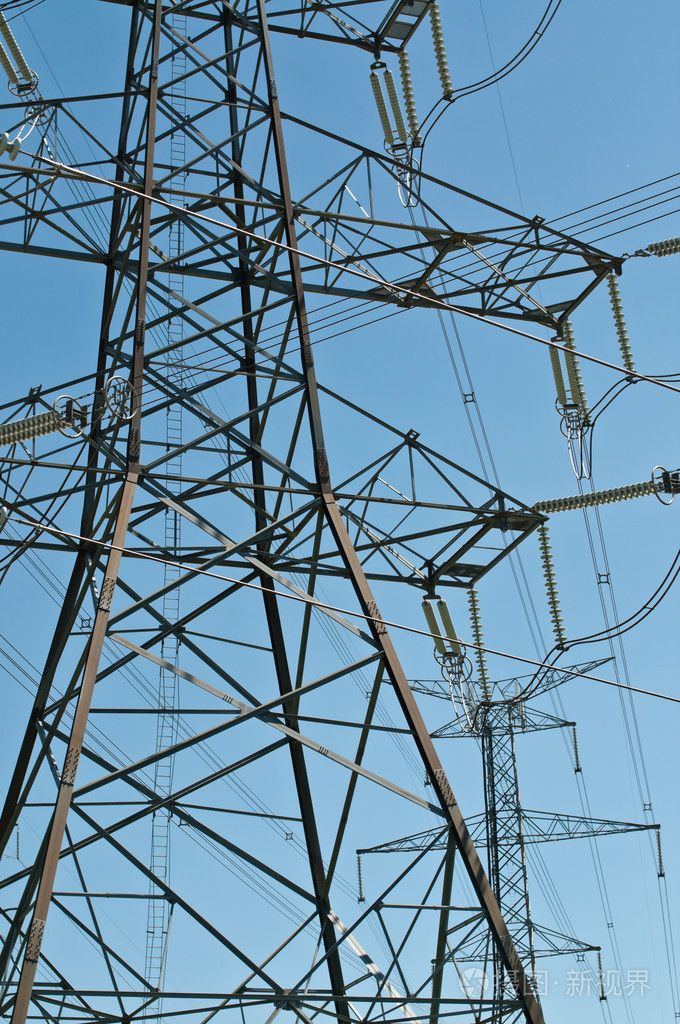insulator: (527, 473, 664, 518), (559, 319, 595, 425), (534, 523, 565, 645), (605, 266, 637, 375), (423, 1, 458, 99), (465, 587, 495, 698), (367, 68, 409, 142), (417, 598, 465, 659), (396, 48, 425, 137), (1, 407, 63, 446), (1, 18, 33, 86)
